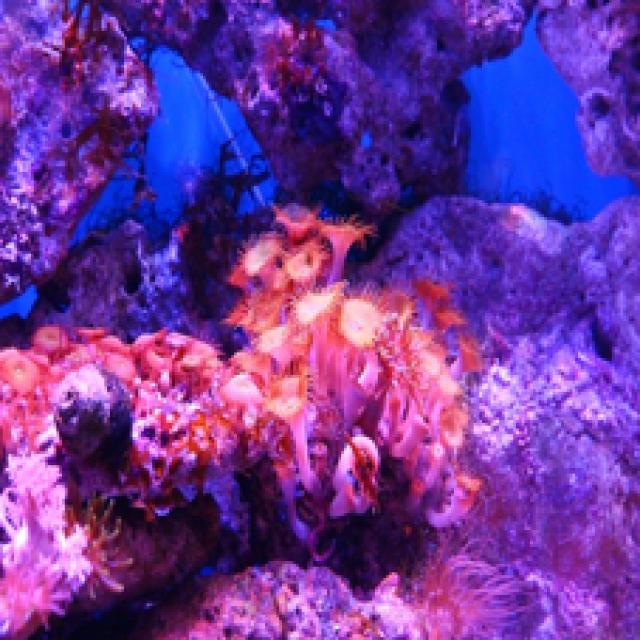Healthy: (1, 210, 477, 551), (1, 452, 94, 638), (413, 554, 523, 638)
